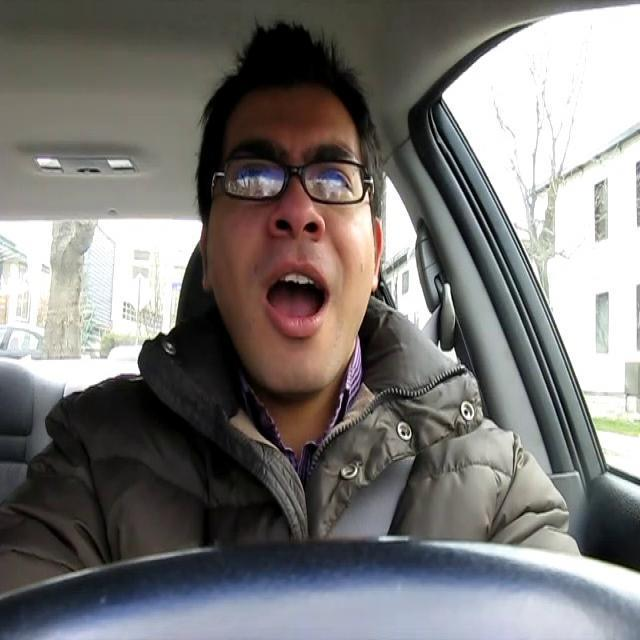open-mouth: (260, 256, 334, 342)
